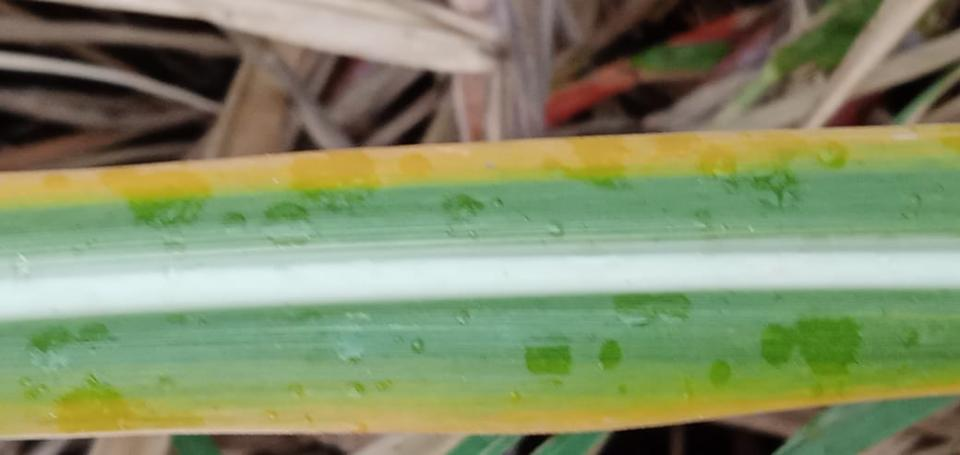Yellow: (0, 123, 959, 203), (0, 383, 959, 439)
